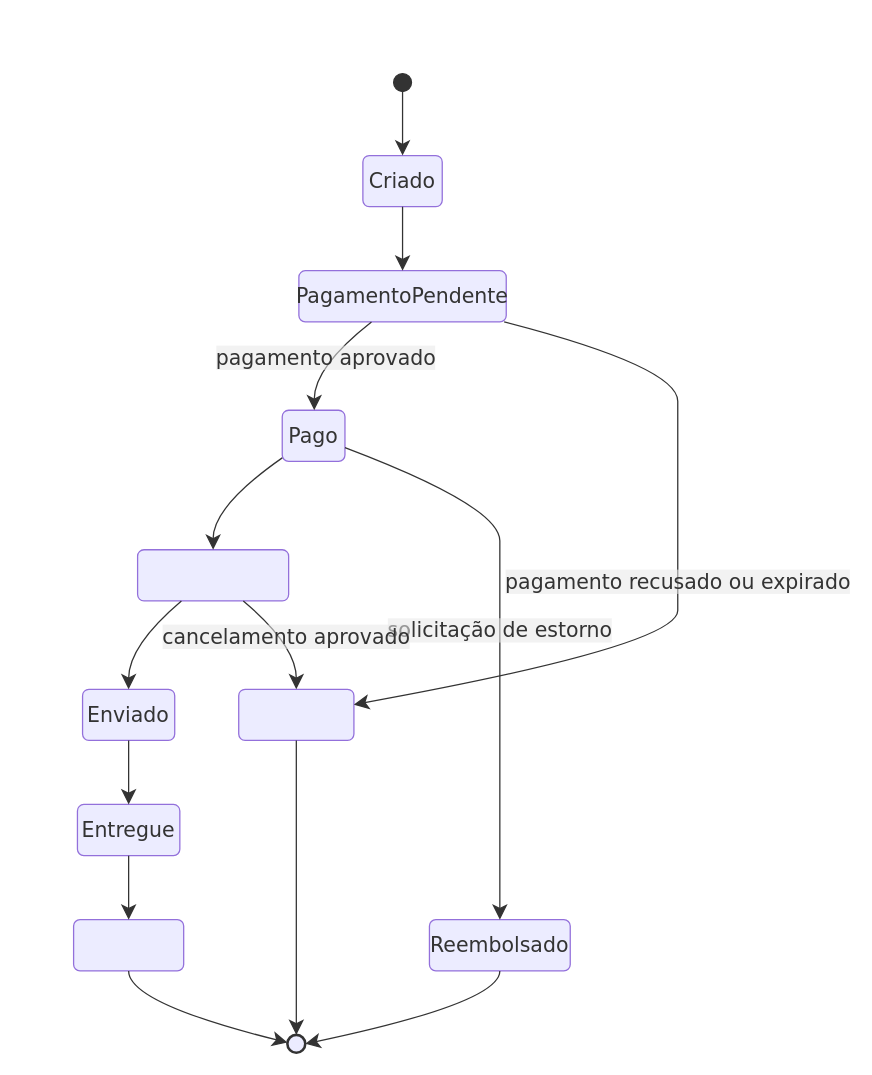
Some shapes in this 872 by 1075 pixel diagram are drawn without their labels. Here are the shapes that lost their labels. From the top down, the centre of each, then its label:
At [212,574]: "EmPreparacao".
At [295,714]: "Cancelado".
At [128,944]: "Concluido".
